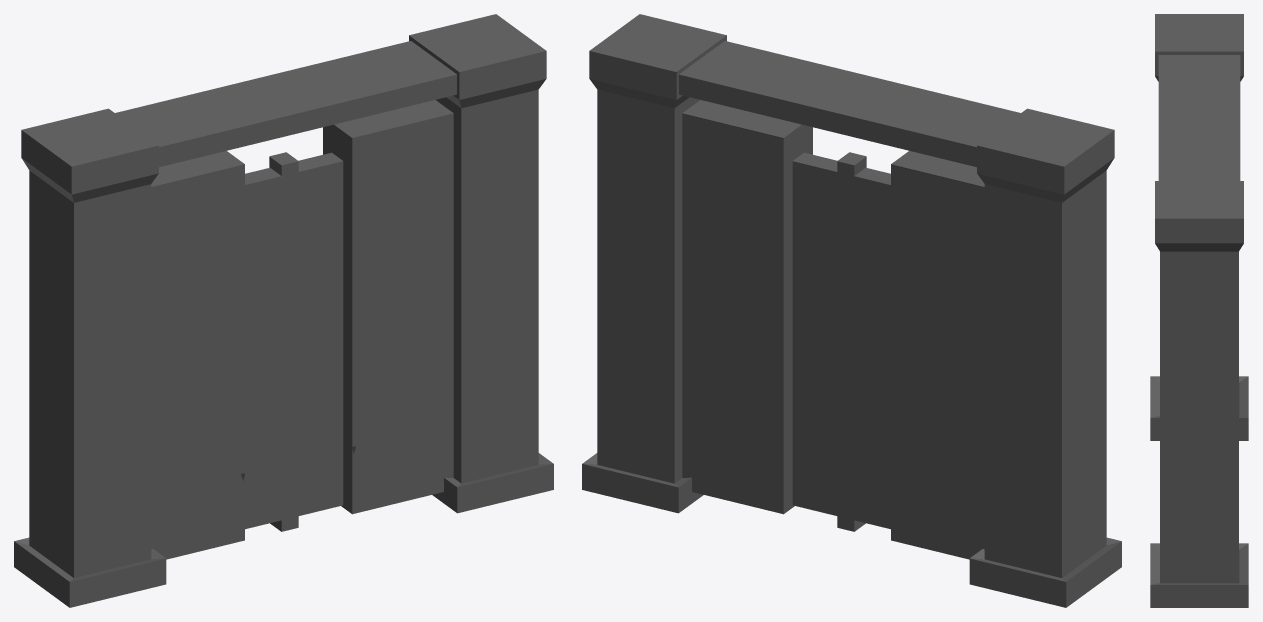
Rendered from DOOR WALL.fbx.
3 views of the same model, side by side, from view 1: azimuth 30°, elevation 25°; view 2: azimuth 150°, elevation 25°; view 3: azimuth 270°, elevation 25° (orthographic). The views are drawn at different scales.
Visible parts, largest first — view 1: Cube.002, Cube; view 2: Cube.002, Cube; view 3: Cube.002.
Boxes of the visible parts, x1,y1,x2,y2 form: Cube.002: [14, 14, 553, 607]; Cube: [151, 100, 453, 559]; Cube.002: [582, 14, 1121, 607]; Cube: [682, 100, 984, 559]; Cube.002: [1150, 14, 1248, 607].
Bounding box in the file's own units: 6012 × 5199 × 1199.
1 material, 1 textured.
